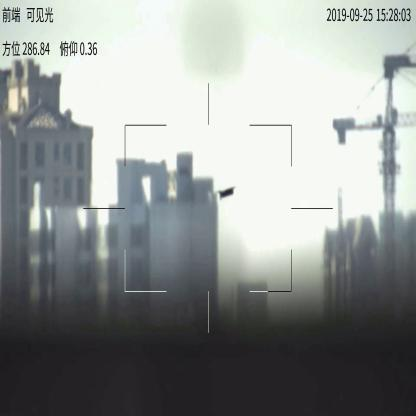uav: (220, 186, 236, 198)
